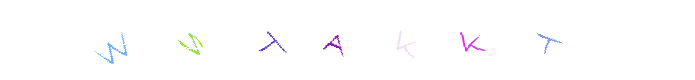A: (267, 0, 347, 80)
K: (308, 0, 388, 80), (373, 0, 453, 80)
S: (223, 0, 303, 80)
T: (418, 0, 498, 80)
W: (152, 0, 232, 80)
Y: (239, 0, 319, 80)
